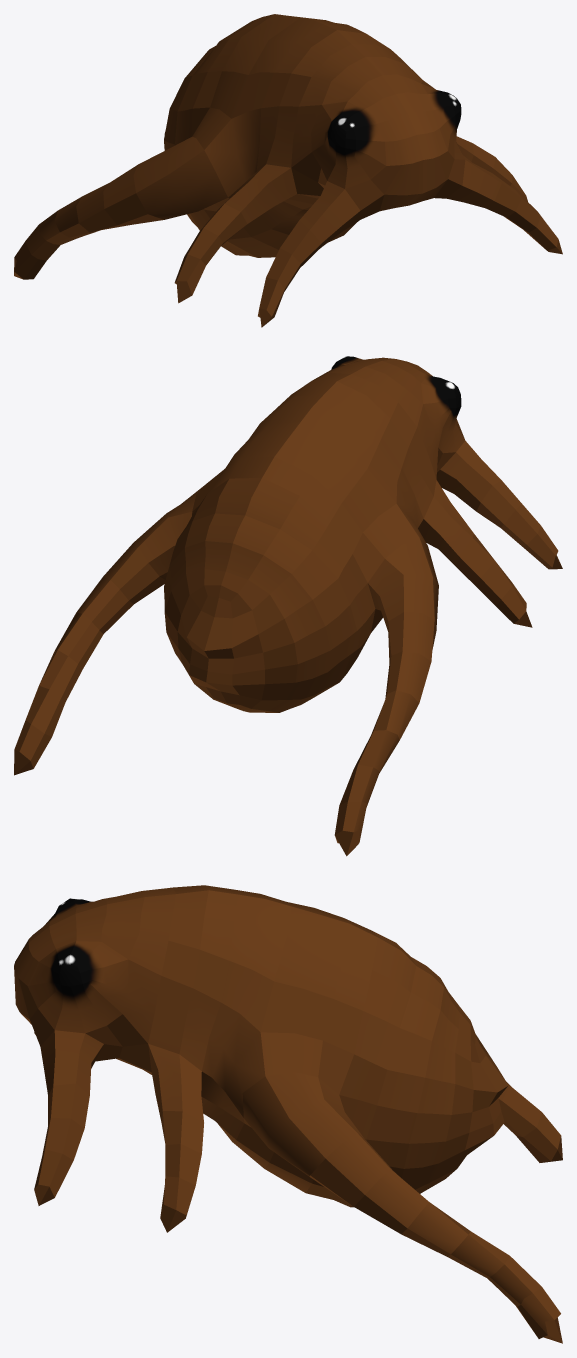
Rendered from flea_model.fbx.
The picture shows the model from 3 angles, top to bottom: view 1: azimuth 30°, elevation 25°; view 2: azimuth 150°, elevation 25°; view 3: azimuth 270°, elevation 25°; orthographic projection. The views are drawn at different scales.
Visible parts, largest first — view 1: flea_low_poly_unwrapped:polySurface1; view 2: flea_low_poly_unwrapped:polySurface1; view 3: flea_low_poly_unwrapped:polySurface1.
Part boxes in pixels (<box>): flea_low_poly_unwrapped:polySurface1: <box>14,14,562,327</box>; flea_low_poly_unwrapped:polySurface1: <box>14,356,562,856</box>; flea_low_poly_unwrapped:polySurface1: <box>14,885,562,1343</box>.
Bounding box in the file's own units: 3.15 × 2.72 × 3.74.
Materials: 1 (1 with a texture image).
